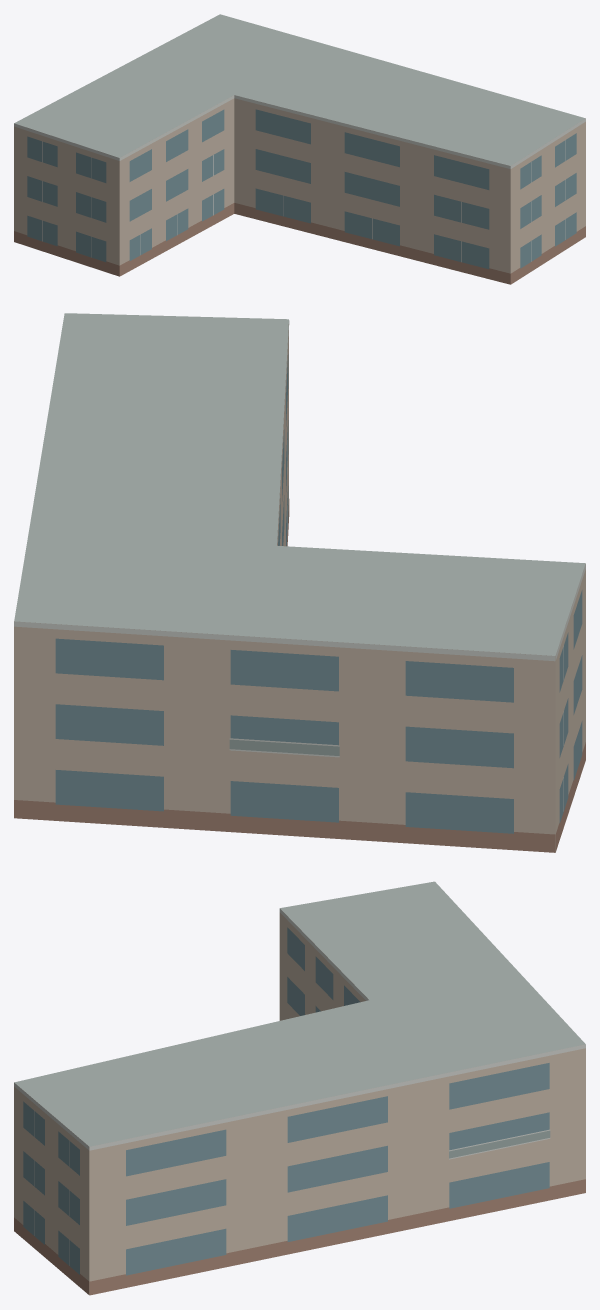
Rendered from survey-upis-32963176.glb.
3 renders of one model, top to bottom at view 1: azimuth 30°, elevation 25°; view 2: azimuth 150°, elevation 25°; view 3: azimuth 270°, elevation 25°, orthographic. The views are drawn at different scales.
Parts seen in each view (by area): view 1: survey-upis-32963176.tmp; view 2: survey-upis-32963176.tmp; view 3: survey-upis-32963176.tmp.
Part boxes in pixels (x1,y1,x2,y2): survey-upis-32963176.tmp: [14, 14, 585, 284]; survey-upis-32963176.tmp: [14, 313, 585, 852]; survey-upis-32963176.tmp: [14, 881, 585, 1295].
Bounding box in the file's own units: 35.02 × 9.15 × 31.9.
